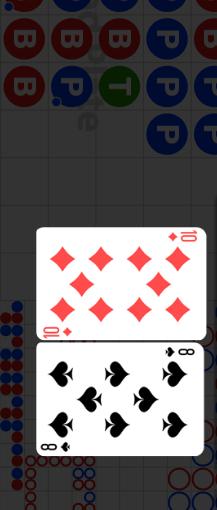10D: (166, 230, 198, 243)
8S: (40, 440, 73, 453)
